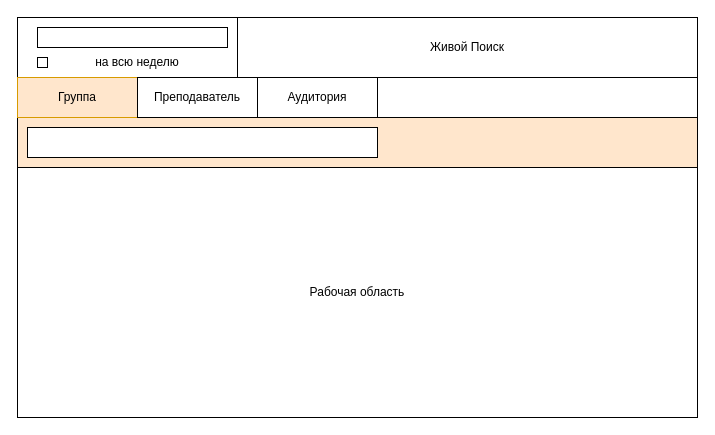
This 715x435 diagram has some shape labels left out. The centre of each missing label's shape, as x and y in pixels:
"Выпадающий список с поиском" goes at (x=202, y=142).
"календарь" goes at (x=132, y=37).
